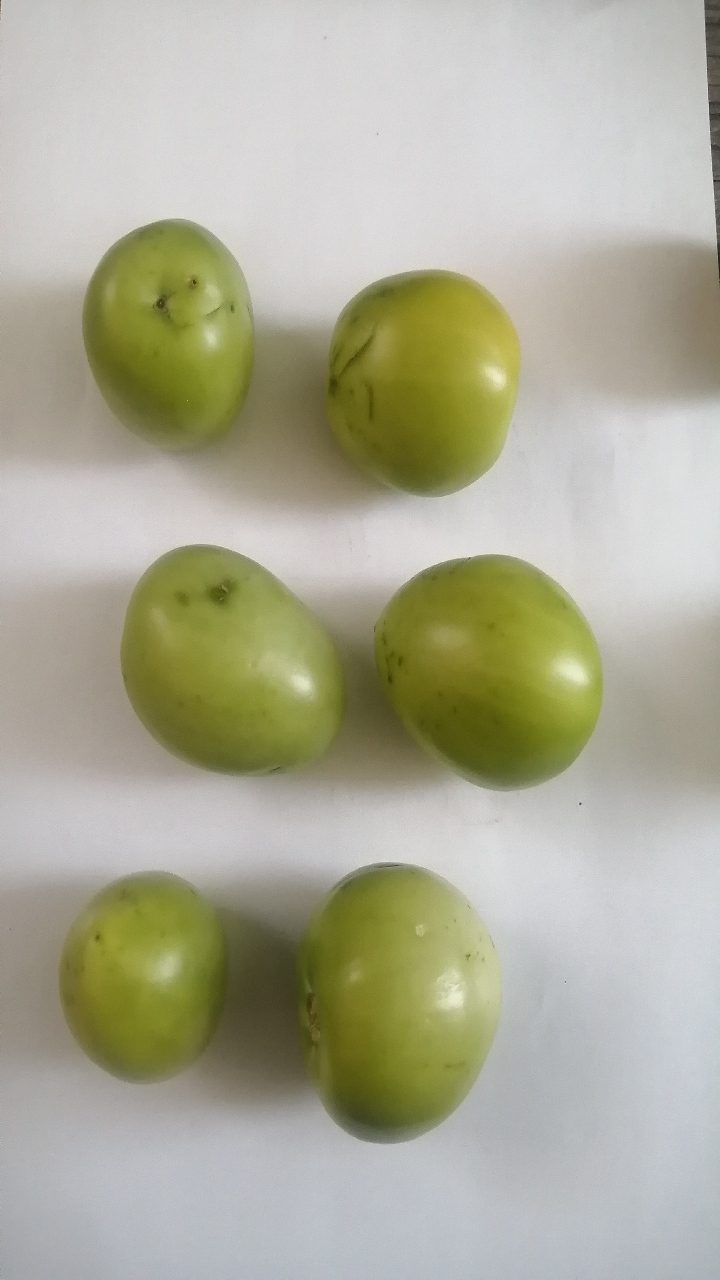tomateVerde: (278, 837, 515, 1168), (108, 509, 364, 811), (363, 526, 626, 811), (283, 243, 535, 505), (57, 191, 283, 483), (51, 840, 235, 1097)
